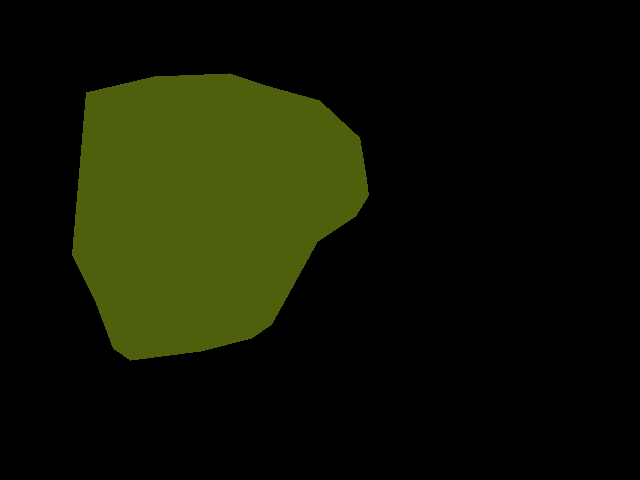Train: (72, 73, 369, 360)
